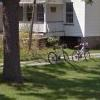Bicycle: (47, 34, 91, 72)
